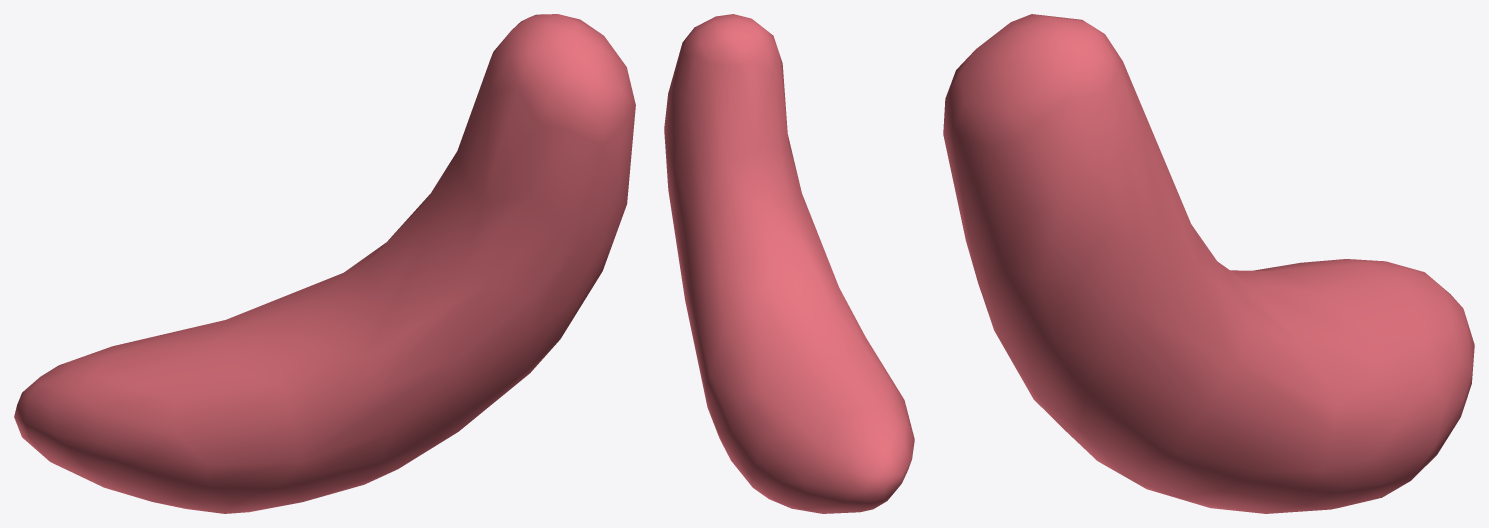
Rendered from fma50305_fj2925.glb.
The picture shows the model from 3 angles, left to right: view 1: azimuth 30°, elevation 25°; view 2: azimuth 150°, elevation 25°; view 3: azimuth 270°, elevation 25°; orthographic projection. The views are drawn at different scales.
Visible parts, largest first — view 1: FMA50305_FJ2925; view 2: FMA50305_FJ2925; view 3: FMA50305_FJ2925.
Boxes of the visible parts, x1,y1,x2,y2 form: FMA50305_FJ2925: [14, 14, 635, 513]; FMA50305_FJ2925: [664, 14, 914, 513]; FMA50305_FJ2925: [943, 14, 1474, 513].
Bounding box in the file's own units: 0.0204 × 0.0218 × 0.0175.
